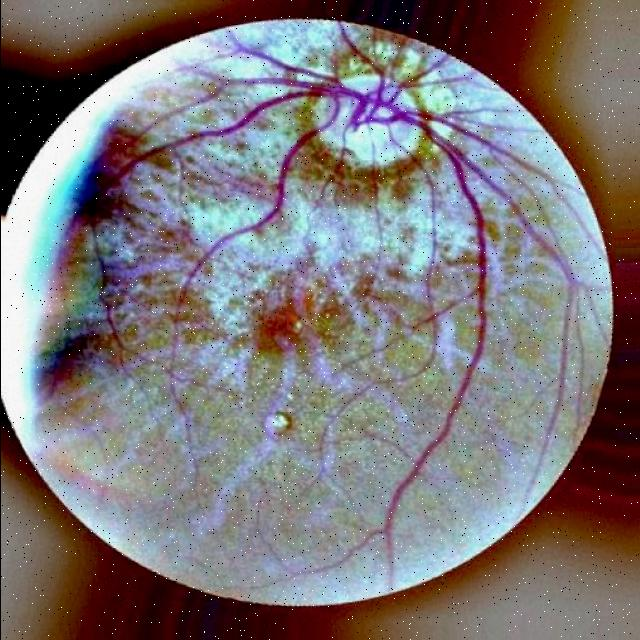Macula: (254, 294, 313, 349)
Nerves: (115, 66, 517, 540), (414, 113, 571, 282), (341, 28, 467, 91), (367, 139, 380, 199)
Optic Disk: (312, 70, 423, 163)
